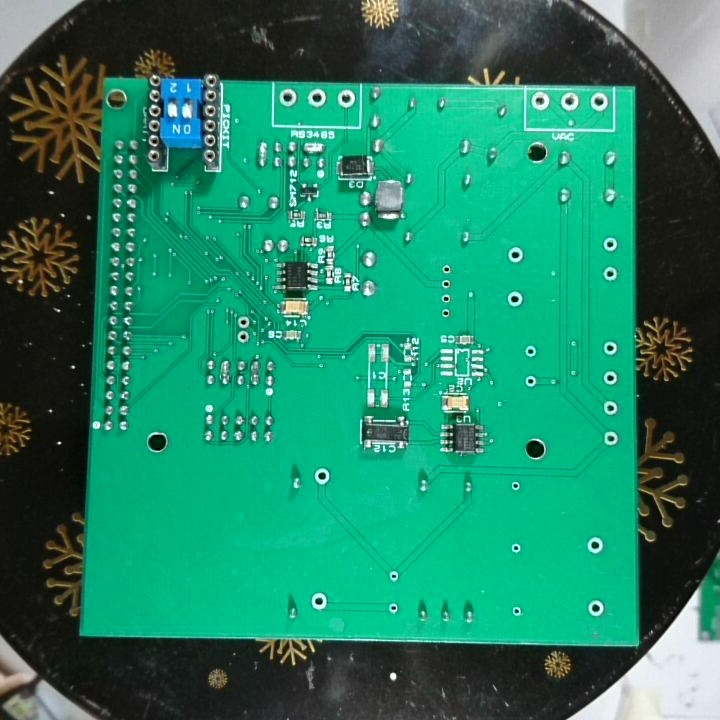F: (558, 91, 581, 115), (335, 88, 357, 112), (309, 590, 331, 614), (276, 87, 299, 109), (305, 89, 328, 111), (529, 91, 551, 114), (585, 535, 607, 558), (588, 91, 610, 113), (600, 338, 621, 360), (505, 244, 527, 265), (599, 398, 622, 418), (586, 598, 607, 619), (505, 289, 525, 309), (602, 429, 621, 449), (312, 466, 331, 486), (599, 235, 620, 253), (602, 264, 620, 283), (601, 369, 619, 387), (385, 599, 401, 618), (522, 343, 539, 360), (522, 373, 539, 390), (235, 313, 251, 331), (234, 329, 251, 345), (508, 603, 523, 621), (508, 540, 523, 557), (386, 568, 401, 585), (439, 290, 454, 306), (508, 478, 522, 495), (439, 275, 454, 290), (439, 306, 452, 320), (440, 262, 454, 275)
P: (254, 140, 270, 171), (300, 138, 328, 155), (218, 356, 231, 388), (248, 357, 261, 389)
